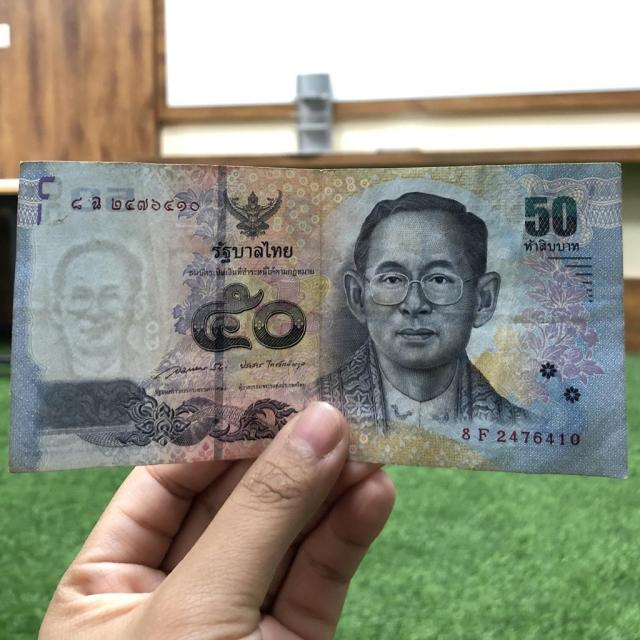THAI50: (8, 160, 629, 482)
